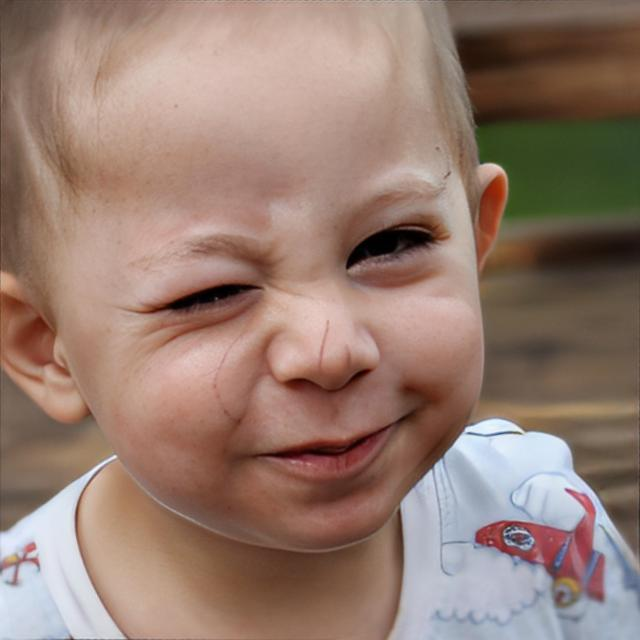disgust: (0, 0, 483, 555)
